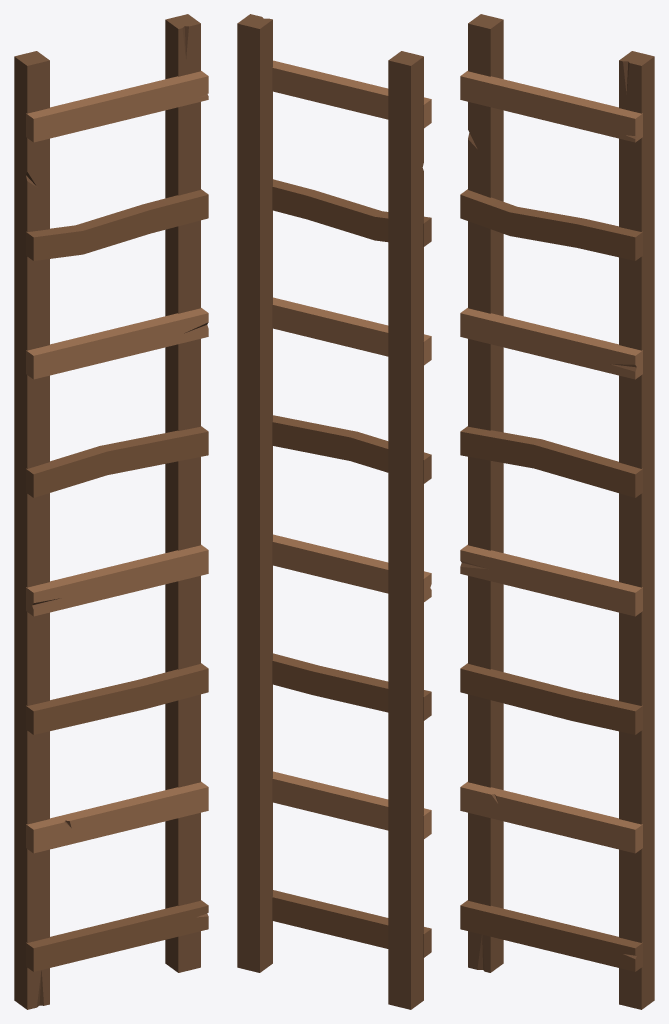
Rendered from WoodStairs_02.fbx.
3 views of the same model, side by side, from view 1: azimuth 30°, elevation 25°; view 2: azimuth 150°, elevation 25°; view 3: azimuth 330°, elevation 25° (orthographic).
Visible parts, largest first — view 1: WoodStairs_02_LOD0; view 2: WoodStairs_02_LOD0; view 3: WoodStairs_02_LOD0.
Boxes of the visible parts, left/top/right/bottom form: WoodStairs_02_LOD0: left=14, top=14, right=208, bottom=1009; WoodStairs_02_LOD0: left=237, top=14, right=431, bottom=1009; WoodStairs_02_LOD0: left=460, top=14, right=654, bottom=1009.
Size of what is drawn, in the model's own units: 0.5826 by 3 by 0.1152.
